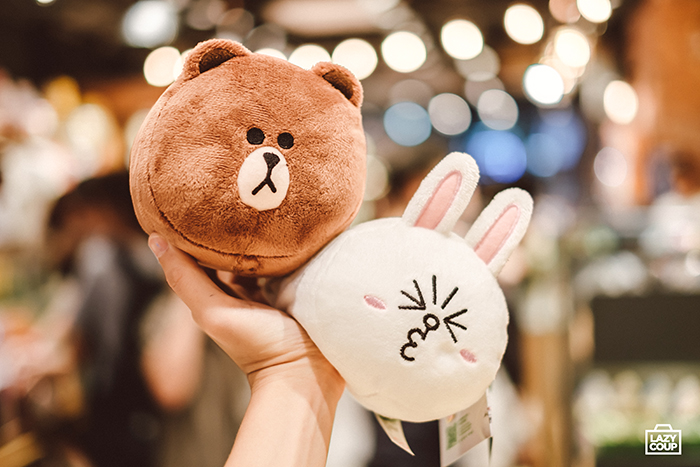line_brown: (118, 32, 376, 278)
